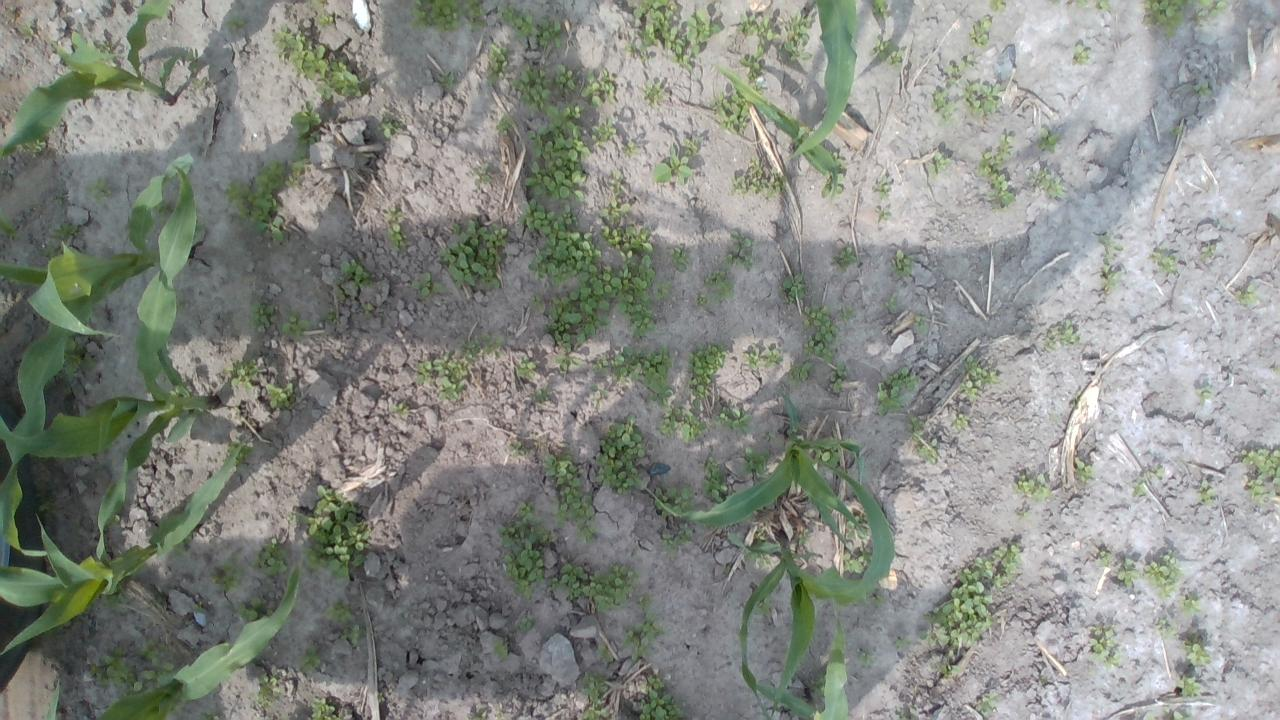Maize: (0, 164, 215, 568), (0, 156, 202, 562), (0, 439, 240, 654), (736, 458, 896, 720), (44, 571, 302, 720), (641, 390, 862, 550), (0, 0, 198, 155), (713, 63, 842, 204), (792, 0, 854, 157), (754, 619, 850, 720)
Weeds: (284, 478, 371, 581), (518, 197, 600, 286), (270, 25, 364, 98), (524, 102, 590, 204), (920, 567, 993, 657), (495, 502, 553, 604), (222, 158, 286, 242), (436, 220, 509, 293), (541, 560, 639, 614), (540, 454, 596, 544), (623, 0, 692, 72), (601, 251, 657, 339), (593, 412, 649, 494), (546, 287, 610, 351), (612, 344, 674, 408), (978, 132, 1018, 212), (285, 103, 321, 186), (597, 203, 653, 254), (408, 0, 486, 36), (501, 5, 566, 48), (686, 340, 728, 406), (132, 638, 180, 692), (414, 356, 468, 404), (622, 616, 672, 664), (974, 544, 1024, 592), (729, 158, 787, 198), (653, 136, 700, 184), (636, 674, 685, 720), (1240, 446, 1280, 502), (876, 367, 920, 416), (86, 646, 132, 692), (55, 334, 97, 384), (1140, 0, 1195, 38), (510, 63, 553, 111), (657, 406, 707, 446), (1142, 552, 1184, 598), (960, 354, 1000, 402), (686, 5, 722, 56), (711, 88, 750, 134), (701, 454, 733, 503), (1099, 234, 1126, 292), (654, 481, 696, 518), (37, 223, 75, 262), (801, 304, 840, 342), (579, 68, 617, 106), (784, 13, 814, 61), (580, 672, 610, 720), (1088, 623, 1120, 668), (208, 552, 242, 594), (658, 522, 694, 560), (734, 14, 778, 45), (1042, 318, 1082, 352), (961, 80, 1001, 114), (253, 537, 287, 576), (928, 87, 960, 127), (224, 358, 260, 392), (710, 404, 752, 433), (722, 230, 754, 268), (384, 206, 409, 253), (457, 334, 504, 359), (740, 344, 784, 370), (253, 672, 283, 710), (943, 52, 976, 86), (1026, 167, 1062, 198), (706, 267, 736, 304), (339, 259, 377, 288), (1013, 474, 1052, 502), (482, 46, 512, 82), (280, 312, 316, 342), (309, 695, 352, 720), (871, 36, 904, 68), (740, 46, 770, 80), (411, 271, 446, 300), (842, 545, 872, 576), (243, 302, 274, 332), (742, 448, 768, 483), (968, 14, 994, 48), (262, 382, 293, 410), (830, 239, 856, 272), (550, 63, 576, 96), (802, 340, 835, 364), (1184, 638, 1211, 666), (604, 168, 622, 210), (780, 273, 804, 304), (925, 150, 952, 177), (1151, 247, 1177, 275), (588, 119, 618, 143), (552, 354, 588, 374), (335, 624, 367, 646), (642, 79, 668, 106), (1176, 673, 1203, 699), (1118, 557, 1140, 588), (300, 638, 320, 672), (86, 175, 111, 202), (1072, 454, 1096, 482), (238, 596, 262, 624), (666, 242, 688, 272), (1196, 0, 1228, 20), (1234, 279, 1258, 305), (916, 438, 940, 464), (821, 173, 844, 200), (891, 249, 912, 278), (1035, 128, 1058, 154), (100, 587, 127, 609), (829, 362, 848, 393), (326, 600, 354, 621), (1180, 591, 1200, 620), (846, 516, 870, 540), (793, 359, 816, 384), (872, 174, 894, 200), (16, 136, 48, 153), (906, 414, 924, 444), (974, 692, 998, 714), (377, 116, 399, 140), (516, 354, 536, 380), (744, 550, 770, 570), (808, 446, 834, 465), (1156, 616, 1178, 638), (636, 592, 656, 616), (1198, 480, 1216, 506), (470, 162, 490, 185), (0, 211, 17, 237), (494, 115, 514, 136), (1070, 45, 1090, 65), (657, 282, 676, 302), (1163, 706, 1190, 720), (226, 14, 248, 31), (912, 313, 928, 336), (492, 638, 510, 658), (869, 590, 887, 610), (98, 41, 116, 61), (591, 354, 609, 374), (197, 703, 218, 720), (509, 441, 530, 458), (620, 142, 642, 158), (440, 68, 456, 90), (1198, 240, 1216, 259), (869, 0, 888, 18), (532, 384, 552, 401), (836, 304, 858, 319), (1196, 384, 1212, 404), (856, 646, 872, 666), (390, 400, 410, 416), (1192, 82, 1214, 96), (874, 206, 891, 224), (519, 614, 536, 632), (951, 415, 970, 431), (184, 49, 199, 69), (594, 642, 612, 658), (882, 294, 898, 312), (190, 76, 210, 90), (939, 661, 959, 675), (1098, 549, 1112, 568), (894, 638, 916, 650), (1144, 467, 1164, 480), (830, 151, 844, 169), (1133, 481, 1148, 496), (150, 594, 164, 610), (528, 293, 545, 306), (1095, 0, 1112, 12), (754, 528, 768, 542), (21, 24, 35, 38), (894, 707, 909, 720), (190, 602, 206, 614), (471, 709, 488, 720), (988, 0, 1006, 10), (328, 308, 338, 324), (167, 384, 180, 396), (364, 303, 376, 315), (1170, 126, 1184, 136), (694, 296, 708, 306), (375, 692, 387, 702), (1022, 510, 1034, 520), (1142, 711, 1154, 720), (112, 514, 122, 524), (798, 534, 808, 544), (1076, 0, 1088, 8)
